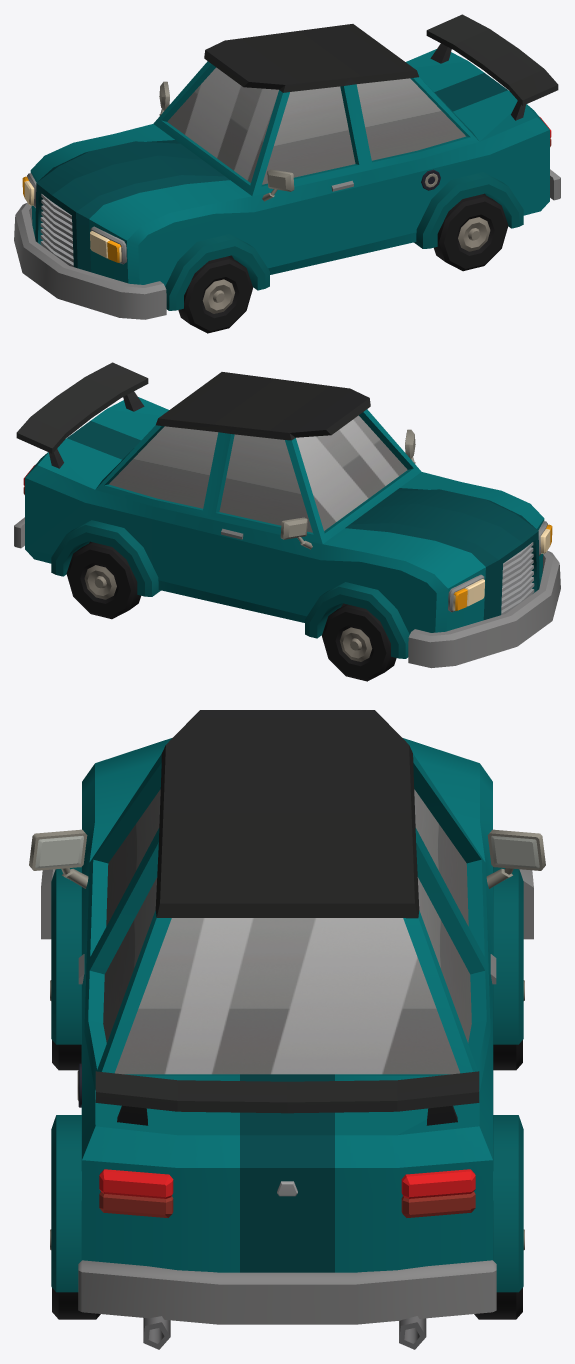
The model's file is Car_1_G.gltf.
3 views of the same model, one above another, from view 1: azimuth 30°, elevation 25°; view 2: azimuth 150°, elevation 25°; view 3: azimuth 270°, elevation 25° (orthographic). The views are drawn at different scales.
Visible parts, largest first — view 1: Car_1_G, RL, FL; view 2: Car_1_G, RR, FR; view 3: Car_1_G, RL, RR, FR, FL.
Part boxes in pixels (x1,y1,x2,y2): Car_1_G: (14, 14, 560, 319); RL: (434, 194, 508, 271); FL: (178, 256, 252, 333); Car_1_G: (14, 362, 560, 668); RR: (66, 542, 140, 619); FR: (322, 604, 396, 681); Car_1_G: (29, 710, 545, 1349); RL: (50, 1229, 100, 1319); RR: (474, 1229, 524, 1319); FR: (493, 980, 524, 1070); FL: (50, 980, 81, 1070).
Bounding box in the file's own units: 3.64 × 1.5 × 1.7.
4 materials, 4 textured.
